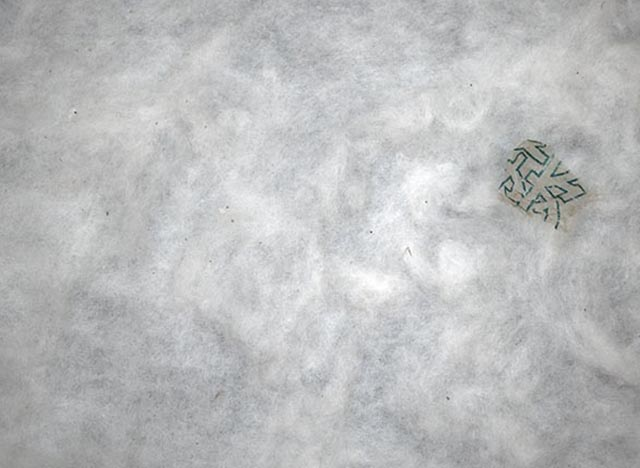plastic film: (495, 138, 596, 229)
